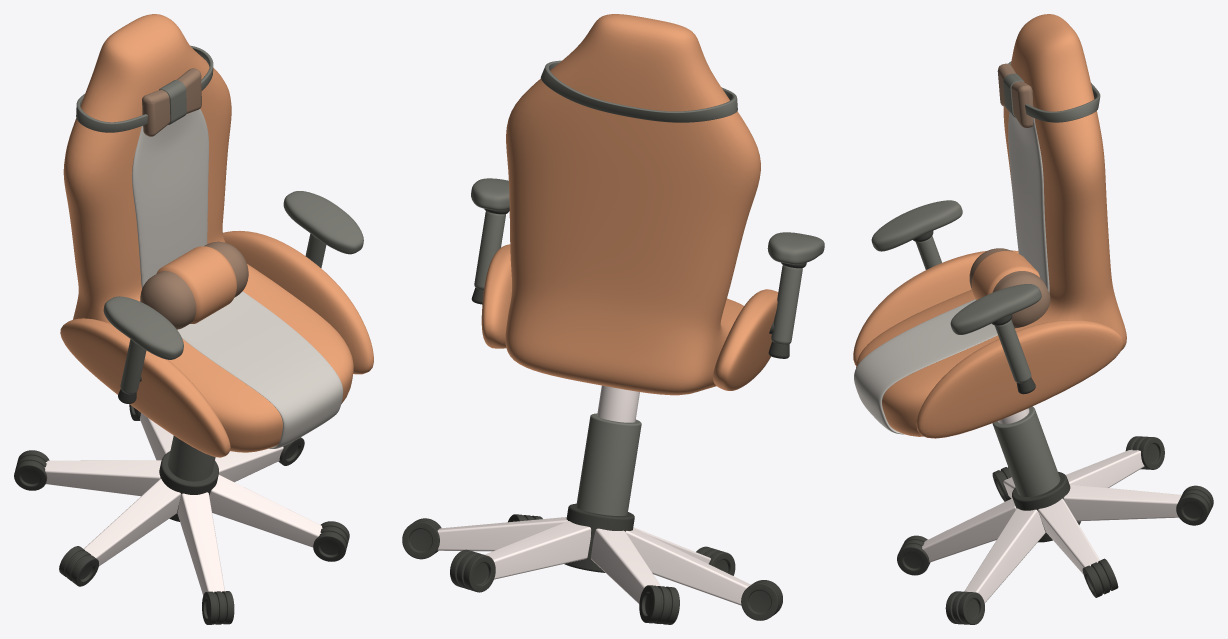
Rendered from office-chair-cozy-v0.glb.
3 views of the same model, side by side, from view 1: azimuth 30°, elevation 25°; view 2: azimuth 150°, elevation 25°; view 3: azimuth 270°, elevation 25° (orthographic). The views are drawn at different scales.
Visible parts, largest first — view 1: Cube.137, Cube.141, Cube.138, Cube.136, Cube.139, Cube.132, Cylinder.020, Cylinder.027, Cylinder.026, Cube.142, Cylinder.019, Cylinder.018 (+4 smaller); view 2: Cube.137, Cube.136, Cube.138, Cube.132, Cylinder.018, Cylinder.020, Cylinder.022, NurbsPath.002, Cube.139, Cylinder.019, Cylinder.017, Cylinder.021; view 3: Cube.137, Cube.138, Cube.136, Cube.141, Cube.139, Cylinder.020, Cylinder.018, Cube.132, Cylinder.022, Cylinder.026, Cylinder.027, Cylinder.019 (+3 smaller).
Boxes of the visible parts, <box> form: Cube.137: <box>63,14,353,452</box>; Cube.141: <box>132,109,343,448</box>; Cube.138: <box>60,231,373,457</box>; Cube.136: <box>44,413,322,595</box>; Cube.139: <box>103,191,363,359</box>; Cube.132: <box>84,446,283,566</box>; Cylinder.020: <box>14,404,349,624</box>; Cylinder.027: <box>156,246,236,323</box>; Cylinder.026: <box>140,241,248,329</box>; Cube.142: <box>142,68,201,136</box>; Cylinder.019: <box>59,437,304,586</box>; Cylinder.018: <box>168,435,215,481</box>; Cube.137: <box>505,14,760,395</box>; Cube.136: <box>484,521,710,603</box>; Cube.138: <box>481,244,778,390</box>; Cube.132: <box>437,517,750,605</box>; Cylinder.018: <box>576,413,641,515</box>; Cylinder.020: <box>450,514,735,624</box>; Cylinder.022: <box>474,211,802,344</box>; NurbsPath.002: <box>540,60,737,122</box>; Cube.139: <box>471,178,824,264</box>; Cylinder.019: <box>402,518,782,620</box>; Cylinder.017: <box>564,503,634,572</box>; Cylinder.021: <box>597,385,639,422</box>; Cube.137: <box>856,14,1126,436</box>; Cube.138: <box>853,250,1123,438</box>; Cube.136: <box>922,449,1181,603</box>; Cube.141: <box>854,112,1049,434</box>; Cube.139: <box>871,200,1041,334</box>; Cylinder.020: <box>897,436,1213,624</box>; Cylinder.018: <box>992,406,1060,496</box>; Cube.132: <box>1003,477,1099,574</box>; Cylinder.022: <box>915,236,1031,383</box>; Cylinder.026: <box>969,248,1050,328</box>; Cylinder.027: <box>972,251,1039,299</box>; Cylinder.019: <box>992,467,1118,597</box>.
Bounding box in the file's own units: 1.62 × 2.99 × 1.79.
